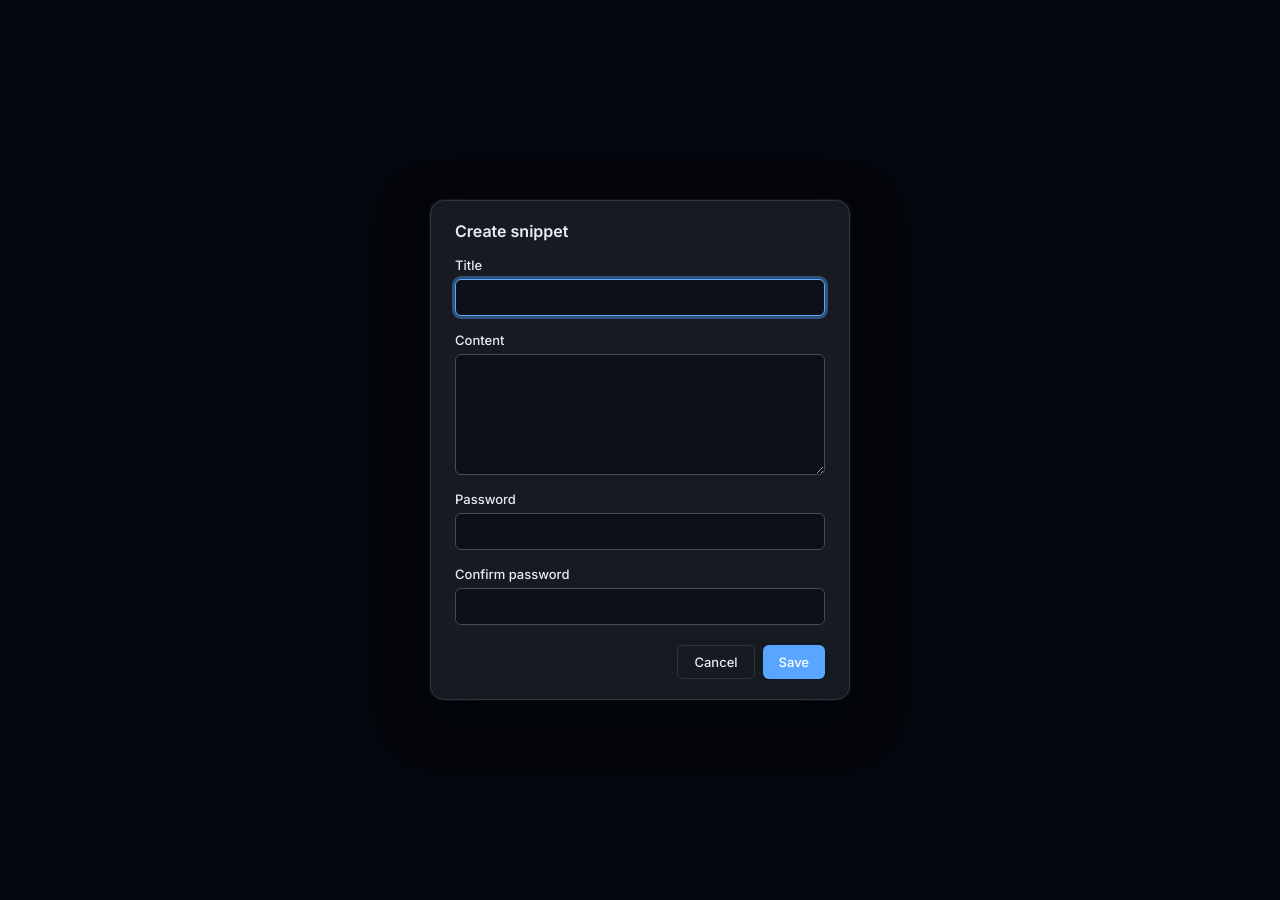
Test case: CreateSnippetModal › validates password match on save click and focuses confirm field
The width and height of the screenshot is (1280, 900).
Type "Valid Title" into the field labelled "Title" at (640, 298), box x1=455 y1=279 x2=825 y2=316
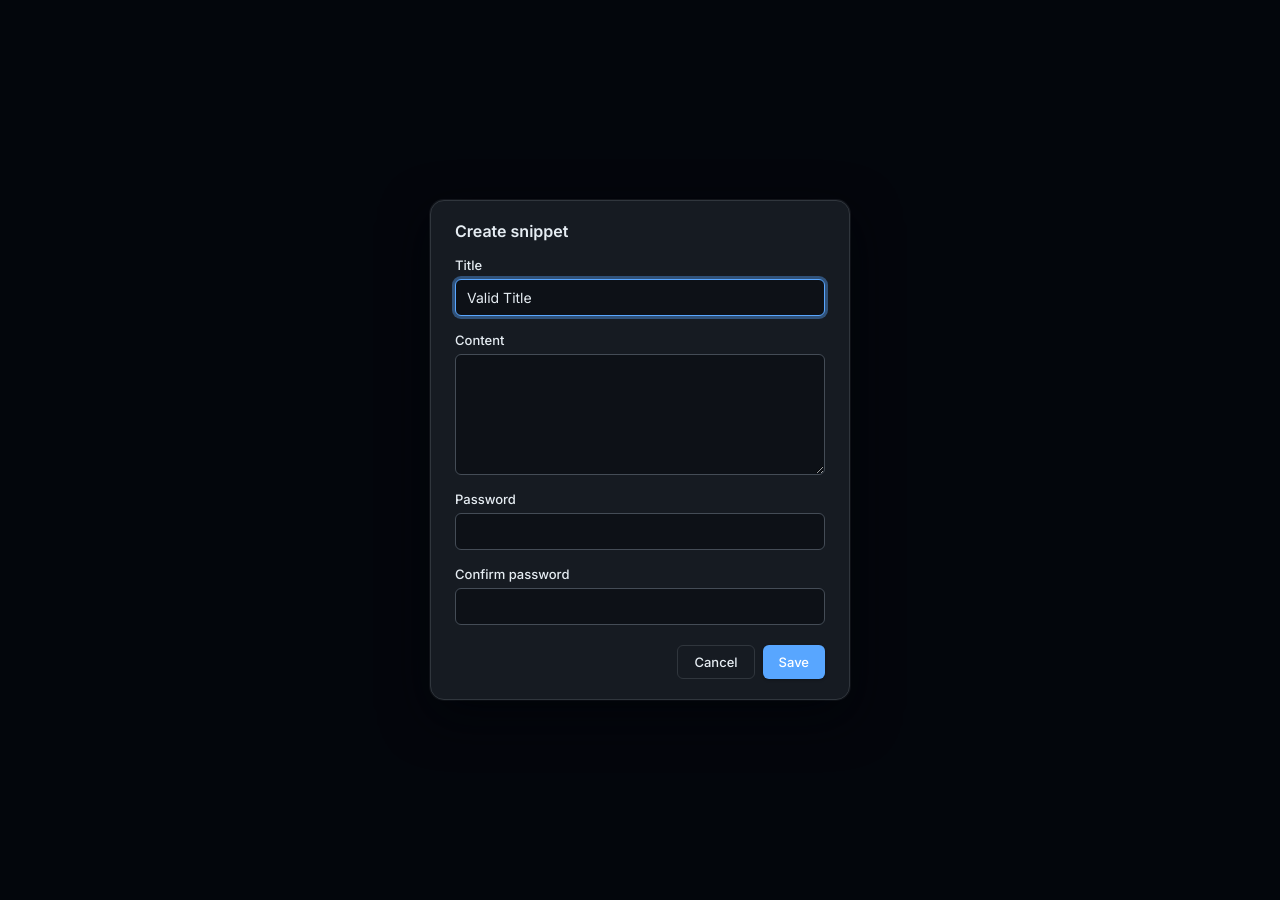
Type "some content" into the text box labelled "Content" at (640, 415), box x1=455 y1=354 x2=825 y2=475
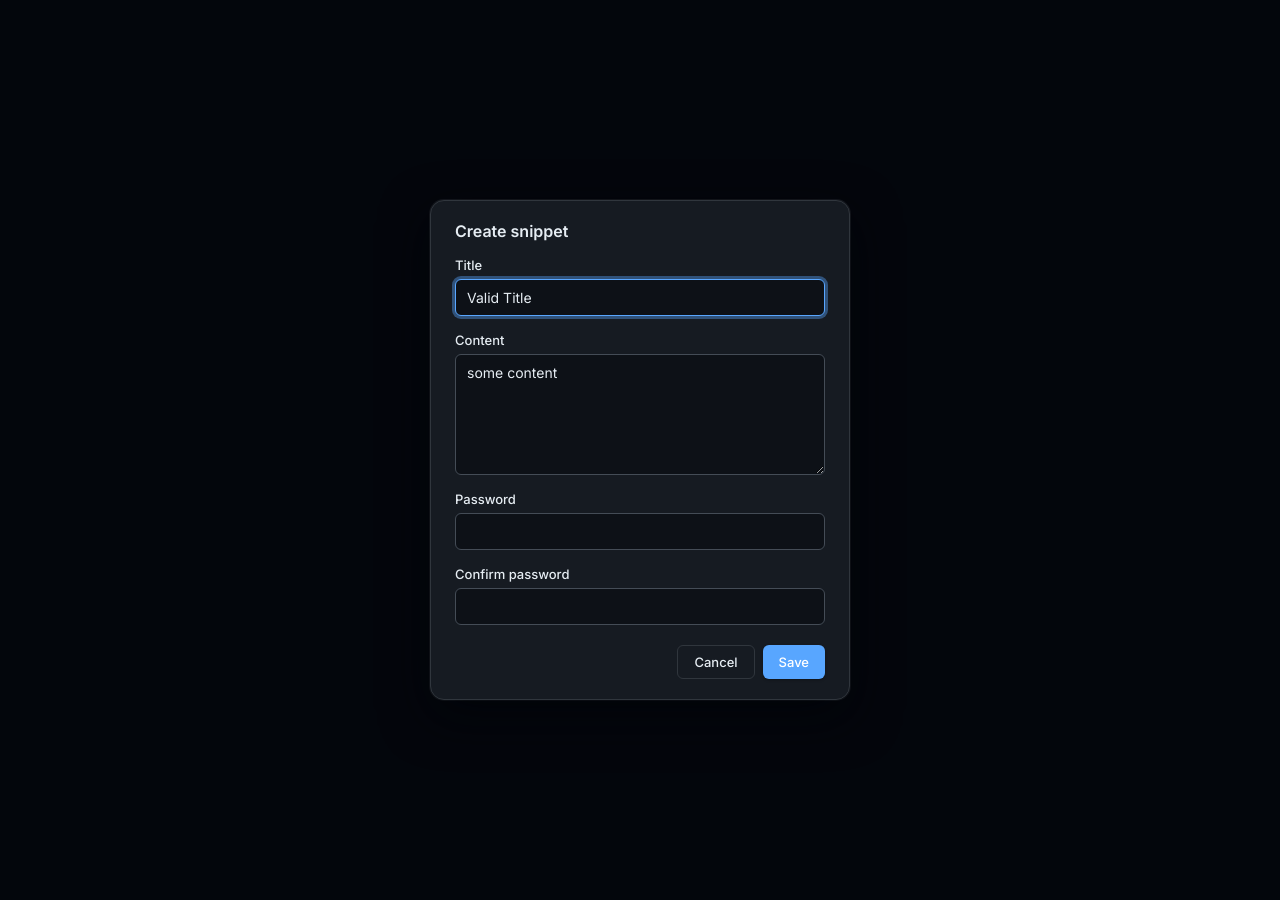
Type "pass1" into the password field labelled "Password" at (640, 532), box x1=455 y1=513 x2=825 y2=550
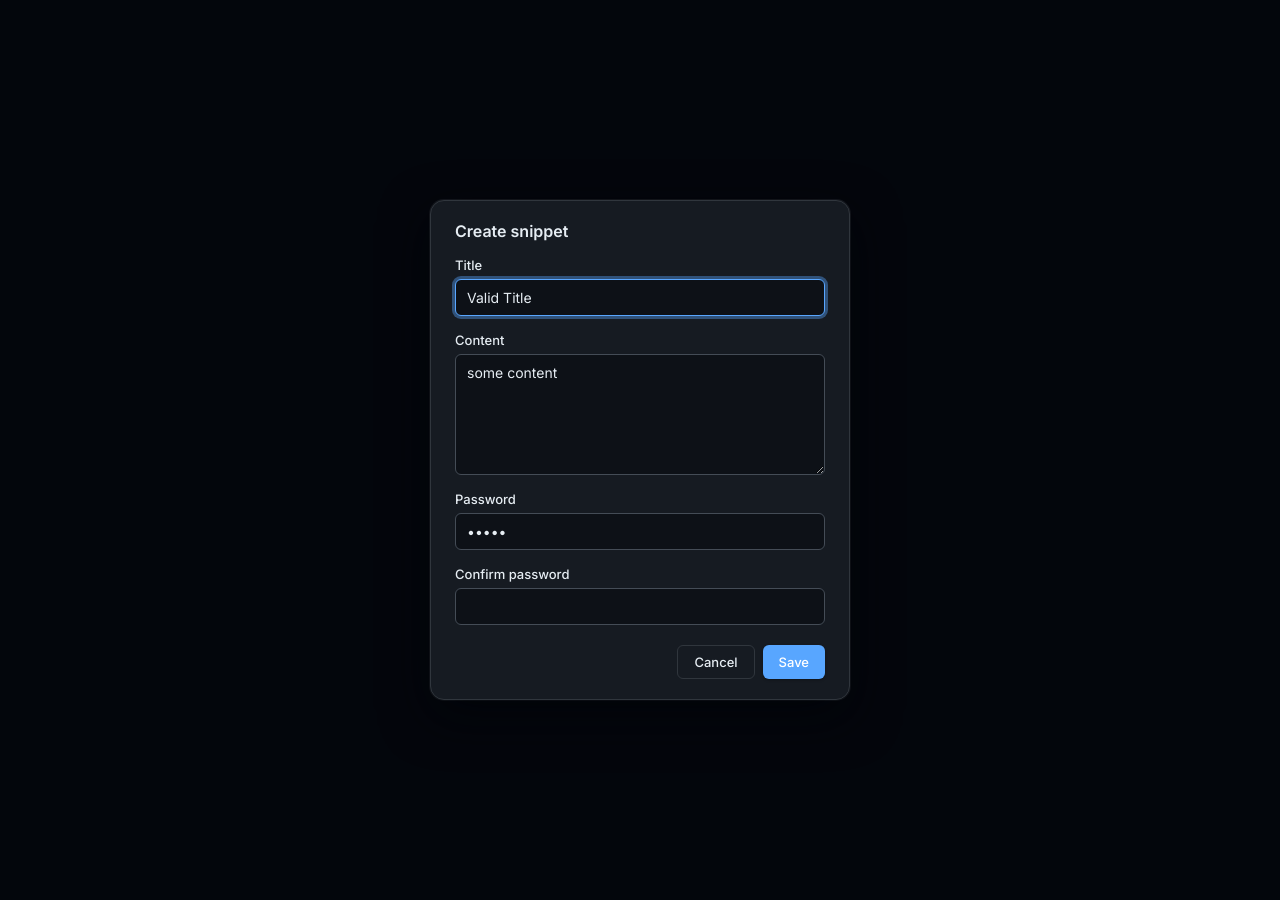
Type "pass2" into the password field labelled "Confirm password" at (640, 607), box x1=455 y1=588 x2=825 y2=625
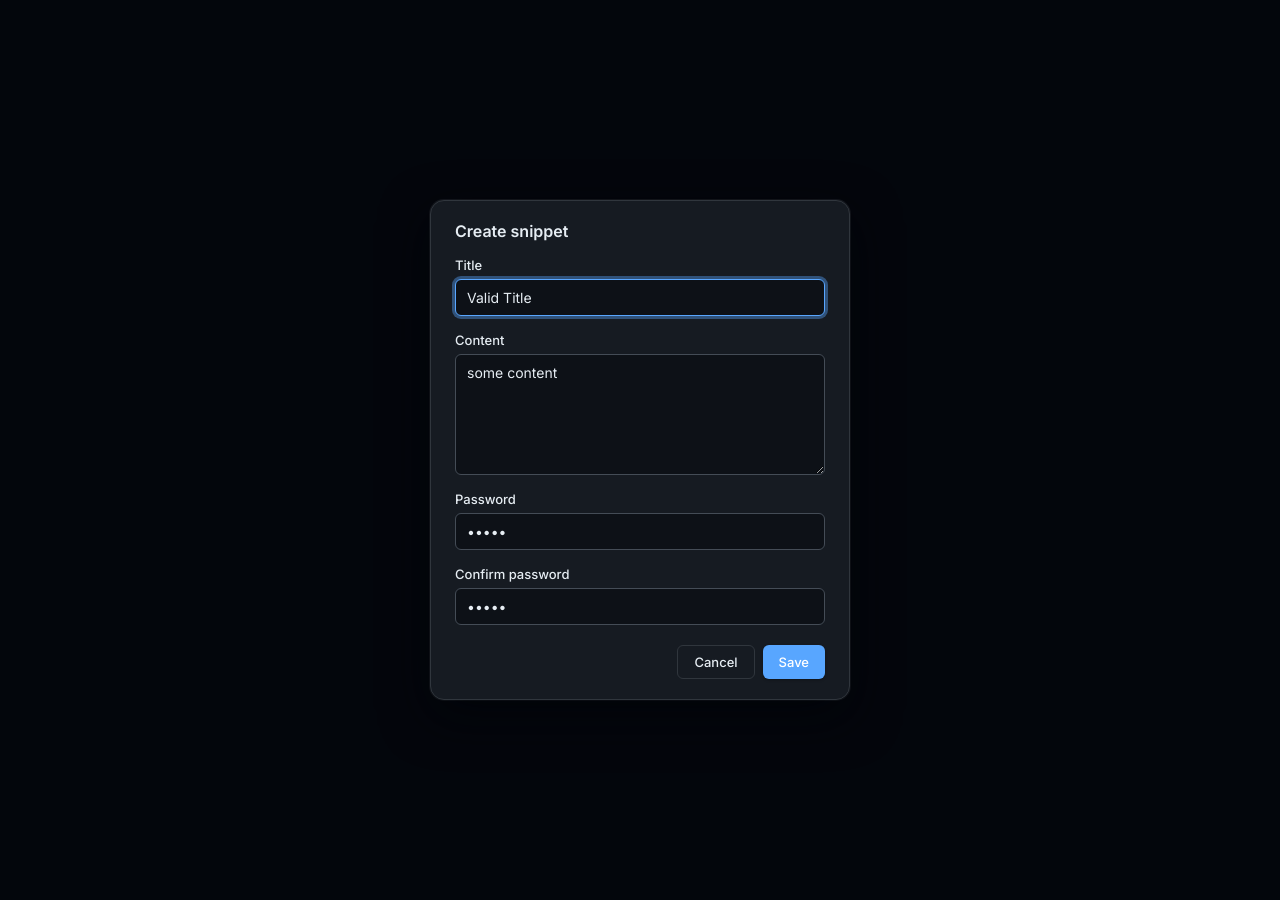
Click the button "Save" at (794, 662), box x1=762 y1=645 x2=825 y2=680
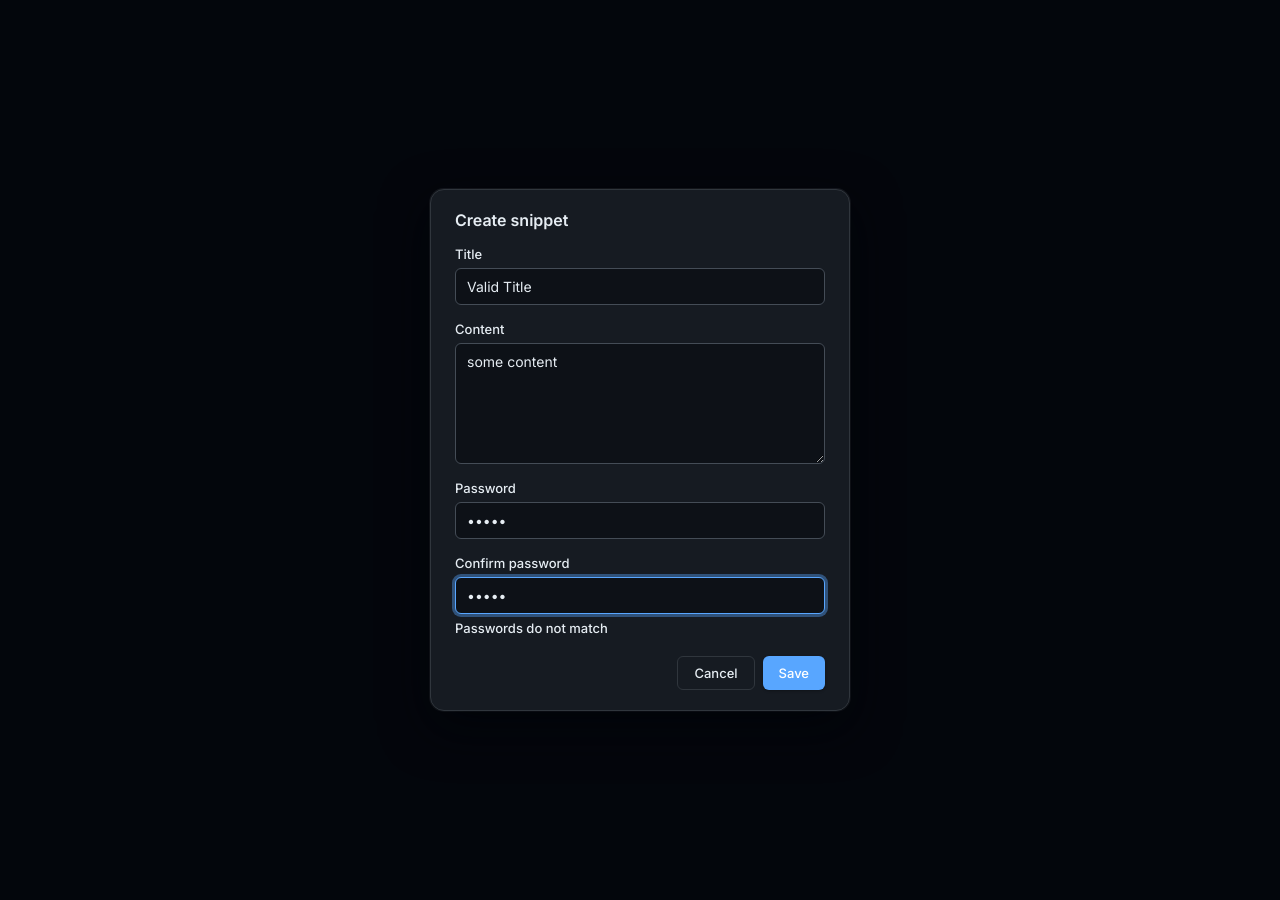
Result: the message "Passwords do not match" is shown at x1=455 y1=620 x2=608 y2=636
